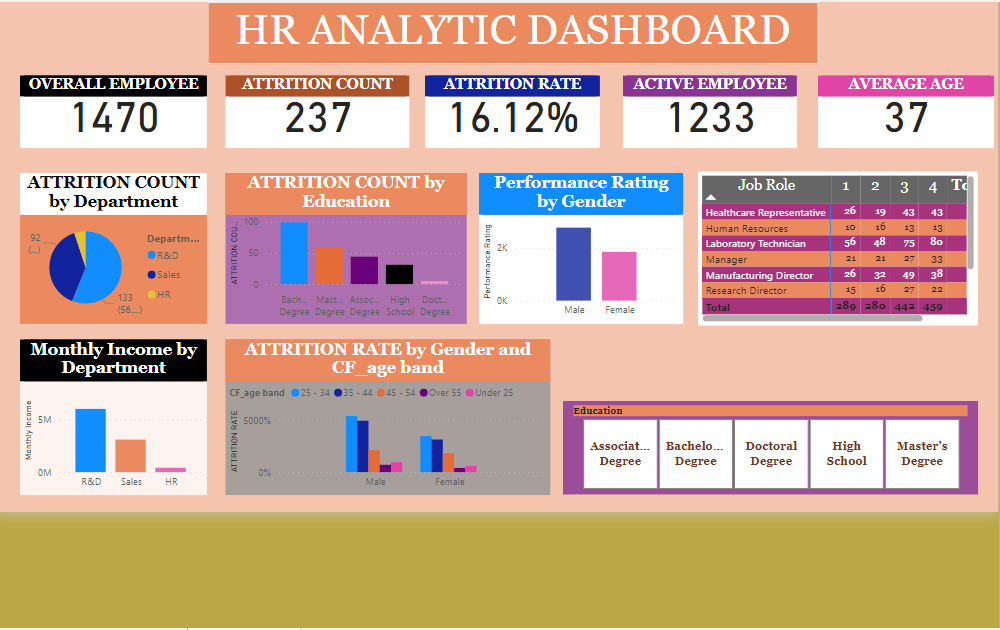

Layout of this report page (visuals, bound fields, positions):
{"tool":"powerbi","page":{"name":"Page 1","canvas":[1280,720],"ordinal":0},"visuals":[{"type":"card","title":"OVERALL EMPLOYEE","fields":{"Values":["CountNonNull(HR data.OVERALL EMPLOYEE)"]},"box":[30.8,163,238.8,92.4],"z":0},{"type":"card","title":"ATTRITION COUNT","fields":{"Values":["Sum(HR data.ATTRITION COUNT)"]},"box":[292.7,163,234.9,92.4],"z":1000},{"type":"card","title":"ATTRITION RATE","fields":{"Values":["Avg(HR data.ATTRITION RATE)"]},"box":[546.9,163,223.4,92.4],"z":2000},{"type":"card","title":"ACTIVE EMPLOYEE","fields":{"Values":["Min(HR data.ACTIVE EMPLOYEE)"]},"box":[799.8,163,222.1,92.4],"z":3000},{"type":"card","title":"AVERAGE AGE","fields":{"Values":["Avg(HR data.AVERAGE AGE)"]},"box":[1048.9,163,224.7,92.4],"z":4000},{"type":"pieChart","fields":{"Y":["Sum(HR data.ATTRITION COUNT)"],"Category":["HR data.Department"]},"box":[30.8,287.6,238.8,192.6],"z":5000},{"type":"clusteredColumnChart","fields":{"Y":["Sum(HR data.ATTRITION COUNT)"],"Category":["HR data.Education"]},"box":[292.7,287.6,308.1,192.6],"z":6000},{"type":"clusteredColumnChart","fields":{"Y":["Sum(HR data.Performance Rating)"],"Category":["HR data.Gender"]},"box":[617.5,287.6,260.6,192.6],"z":7000},{"type":"pivotTable","fields":{"Rows":["HR data.Job Role"],"Columns":["HR data.Job Satisfaction"],"Values":["CountNonNull(HR data.Employee Count)"]},"box":[896.5,285,357.6,196.9],"z":8000},{"type":"clusteredColumnChart","fields":{"Y":["Sum(HR data.Monthly Income)"],"Category":["HR data.Department"]},"box":[30.8,499.4,238.8,199],"z":9000},{"type":"clusteredColumnChart","fields":{"Y":["Sum(HR data.ATTRITION RATE)"],"Category":["HR data.Gender"],"Series":["HR data.CF_age band"]},"box":[292.7,499.4,414.7,199],"z":10000},{"type":"textbox","box":[269.6,68,779.3,79.6],"z":11000},{"type":"slicer","fields":{"Values":["HR data.Education"]},"box":[724.2,579.1,529.9,119.2],"z":12000}]}

Visuals, with their boxes on the page's 1280x720 design canvas (x1, y1, x2, y2). These are canvas units, not pixel positions in the 1000x630 screenshot, which may show the page scaled, cropped or inside an application window:
"OVERALL EMPLOYEE" card: BBox(31, 163, 270, 255)
"ATTRITION COUNT" card: BBox(293, 163, 528, 255)
"ATTRITION RATE" card: BBox(547, 163, 770, 255)
"ACTIVE EMPLOYEE" card: BBox(800, 163, 1022, 255)
"AVERAGE AGE" card: BBox(1049, 163, 1274, 255)
pieChart - Sum(HR data.ATTRITION COUNT) x HR data.Department: BBox(31, 288, 270, 480)
clusteredColumnChart - Sum(HR data.ATTRITION COUNT) x HR data.Education: BBox(293, 288, 601, 480)
clusteredColumnChart - Sum(HR data.Performance Rating) x HR data.Gender: BBox(618, 288, 878, 480)
pivotTable - HR data.Job Role x HR data.Job Satisfaction: BBox(896, 285, 1254, 482)
clusteredColumnChart - Sum(HR data.Monthly Income) x HR data.Department: BBox(31, 499, 270, 698)
clusteredColumnChart - Sum(HR data.ATTRITION RATE) x HR data.Gender: BBox(293, 499, 707, 698)
textbox: BBox(270, 68, 1049, 148)
slicer - HR data.Education: BBox(724, 579, 1254, 698)
